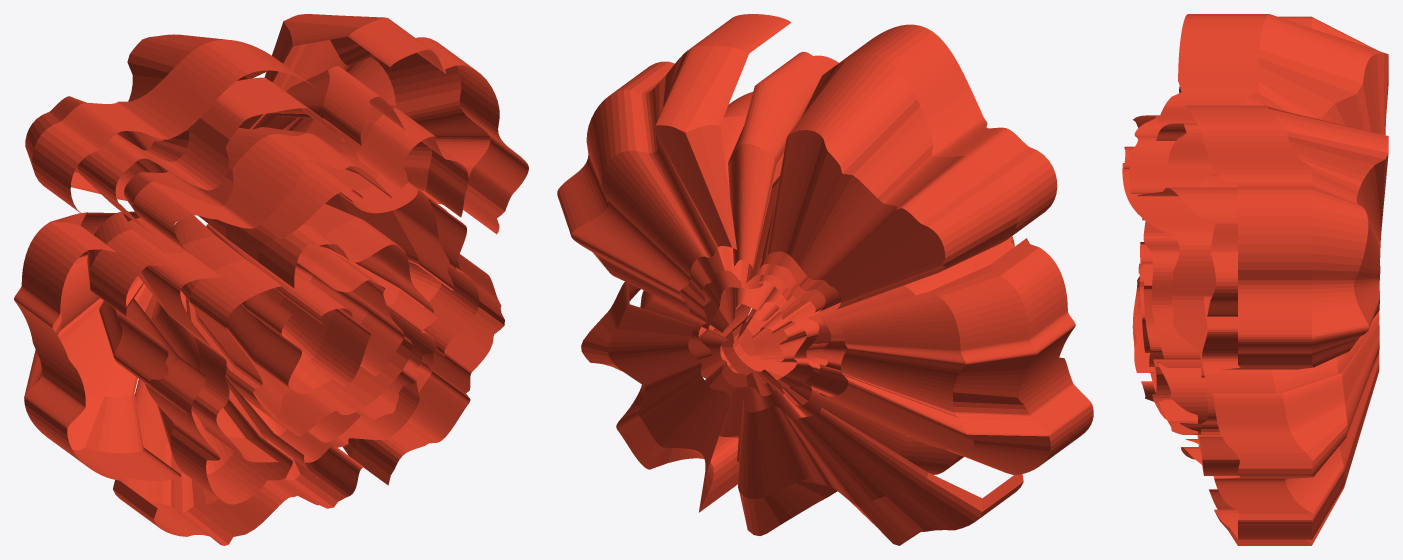
File: ROSITA.glb
The picture shows the model from 3 angles, left to right: view 1: azimuth 30°, elevation 25°; view 2: azimuth 150°, elevation 25°; view 3: azimuth 270°, elevation 25°; orthographic projection. The views are drawn at different scales.
Visible parts, largest first — view 1: BézierCurve; view 2: BézierCurve; view 3: BézierCurve.
Part boxes in pixels (box(x1,y1,x2,y2)): BézierCurve: box(14, 14, 528, 545); BézierCurve: box(557, 14, 1093, 545); BézierCurve: box(1122, 14, 1388, 545).
Size of the model in its own units: 3.13 by 3.02 by 1.57.
